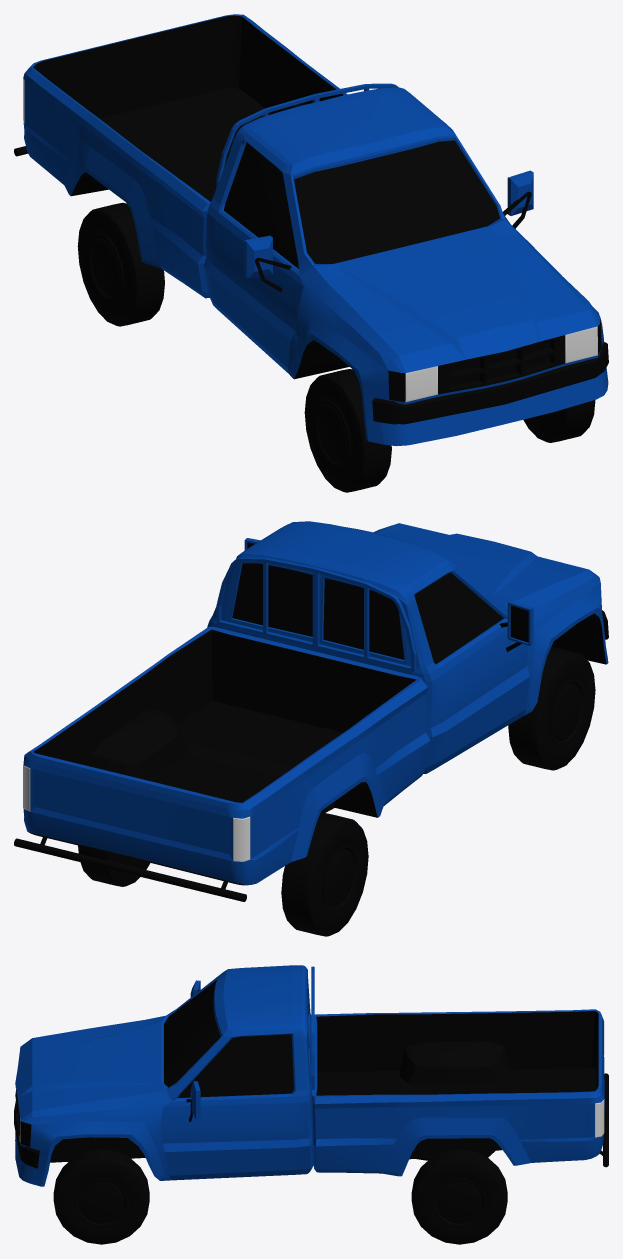
File: tOYOTAPickup.fbx
3 renders of one model, top to bottom at view 1: azimuth 30°, elevation 25°; view 2: azimuth 150°, elevation 25°; view 3: azimuth 270°, elevation 25°, orthographic. The views are drawn at different scales.
Parts seen in each view (by area): view 1: polySurface5, polySurface1, polySurface2, polySurface4; view 2: polySurface5, polySurface1, polySurface2, polySurface3; view 3: polySurface5, polySurface3, polySurface4.
Boxes of the visible parts, x1,y1,x2,y2 form: polySurface5: [14, 14, 608, 446]; polySurface1: [77, 202, 164, 326]; polySurface2: [304, 369, 391, 492]; polySurface4: [523, 400, 595, 442]; polySurface5: [14, 521, 608, 901]; polySurface1: [281, 813, 368, 936]; polySurface2: [508, 647, 595, 770]; polySurface3: [78, 845, 150, 886]; polySurface5: [14, 965, 608, 1186]; polySurface3: [411, 1149, 507, 1244]; polySurface4: [53, 1149, 149, 1244].
Bounding box in the file's own units: 15.97 × 14.28 × 36.37.
